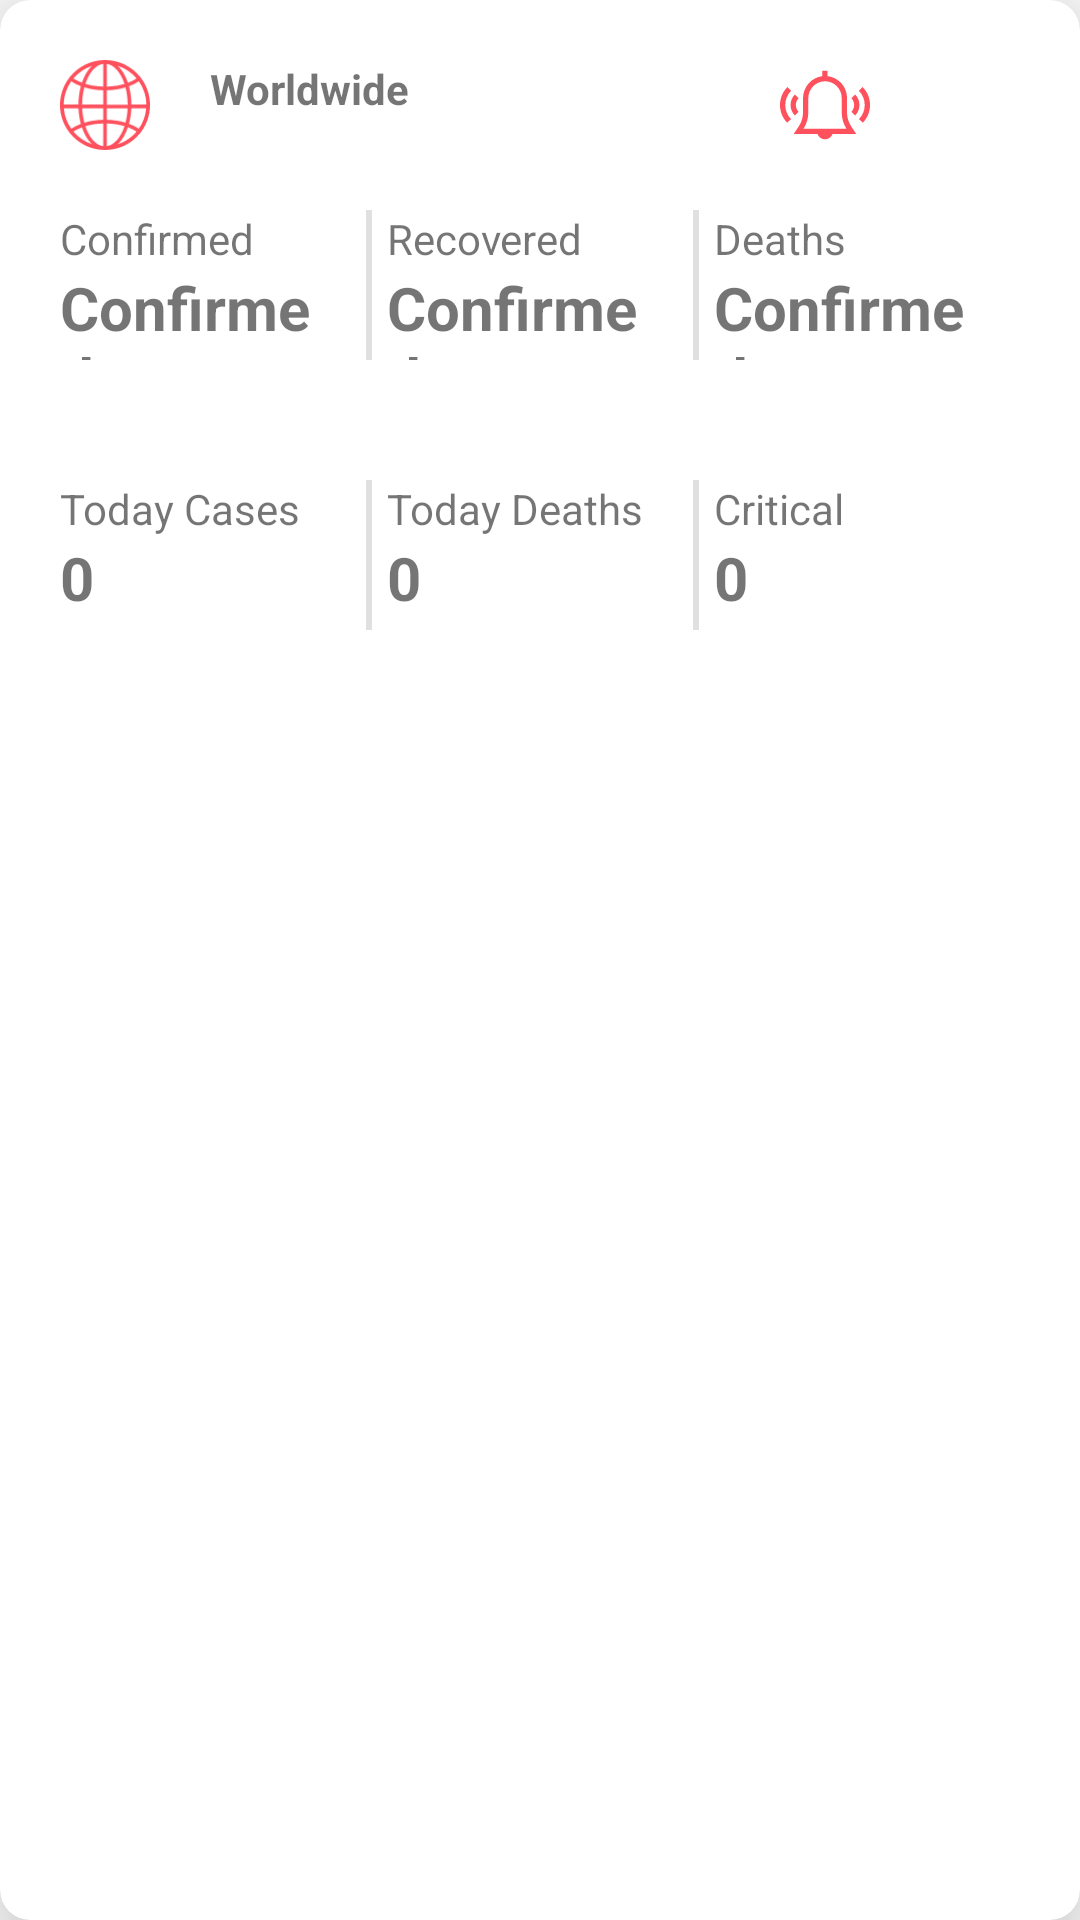

Where to tap for icons on this 1080w x 1920h app screen, as (x=x, y=y):
globe: (x=105, y=105)
